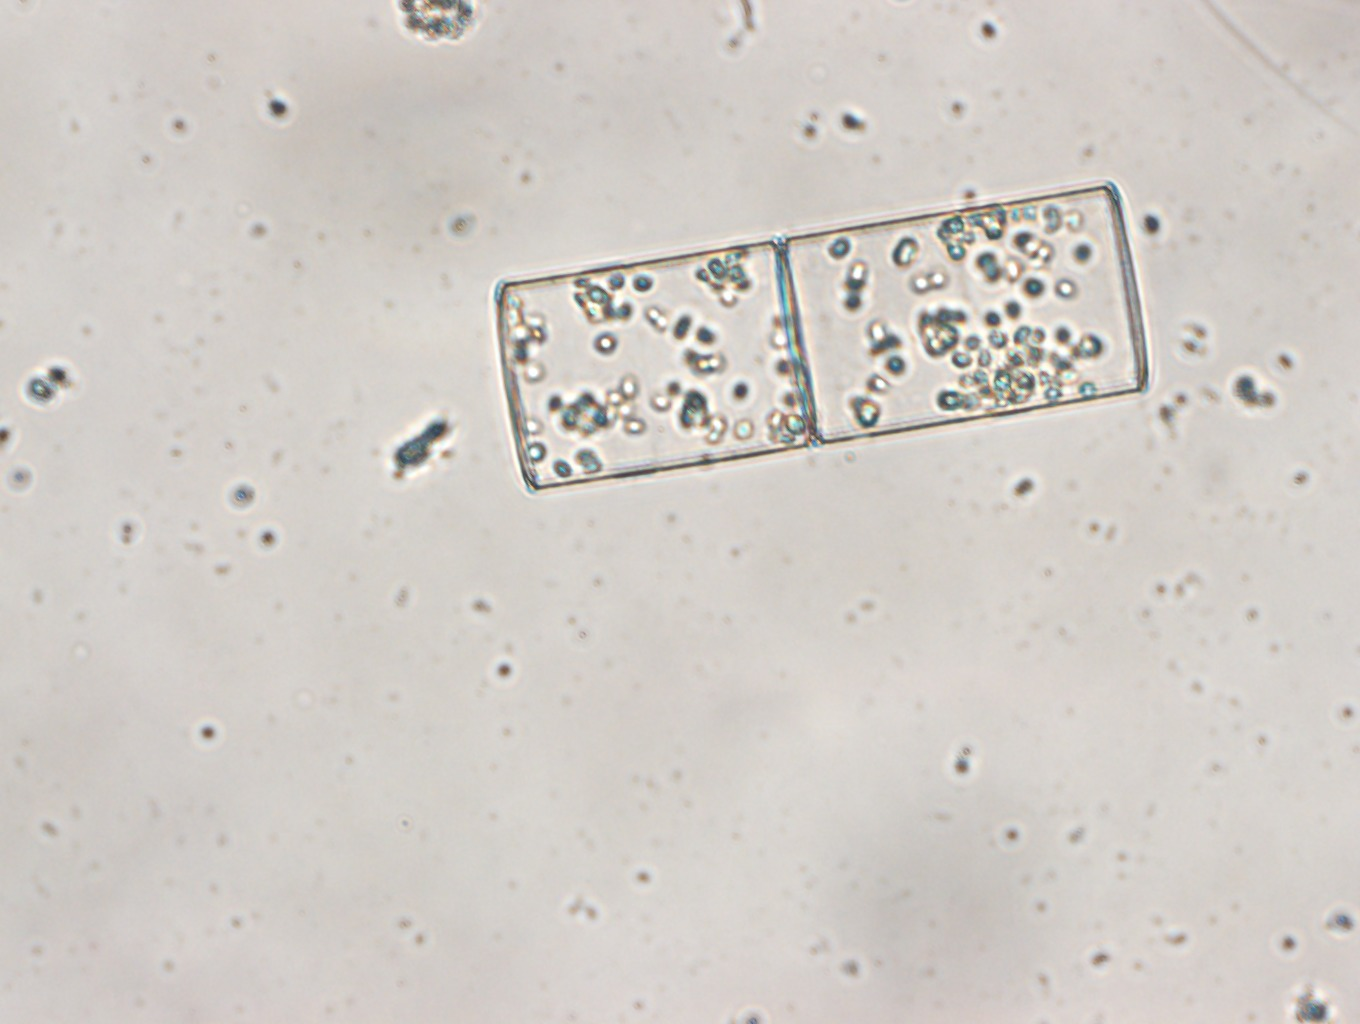guinardia flaccida: (490, 174, 1155, 497)
